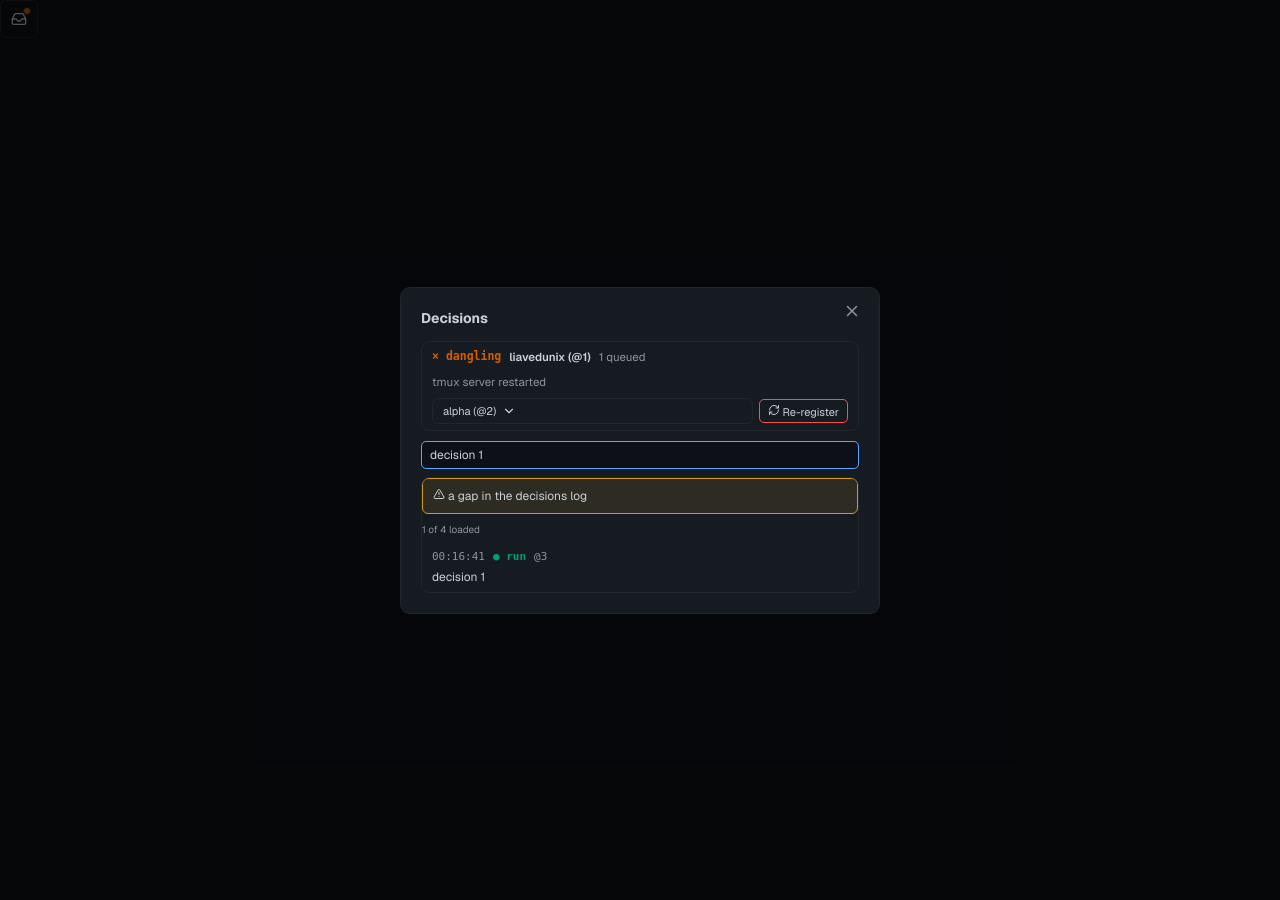
Test: the candidates: live Claude sessions only, sorted by name then window; the first is picked
Press Enter in the dropdown named "Session to re-register as orchestrator", box [432,398,753,424]
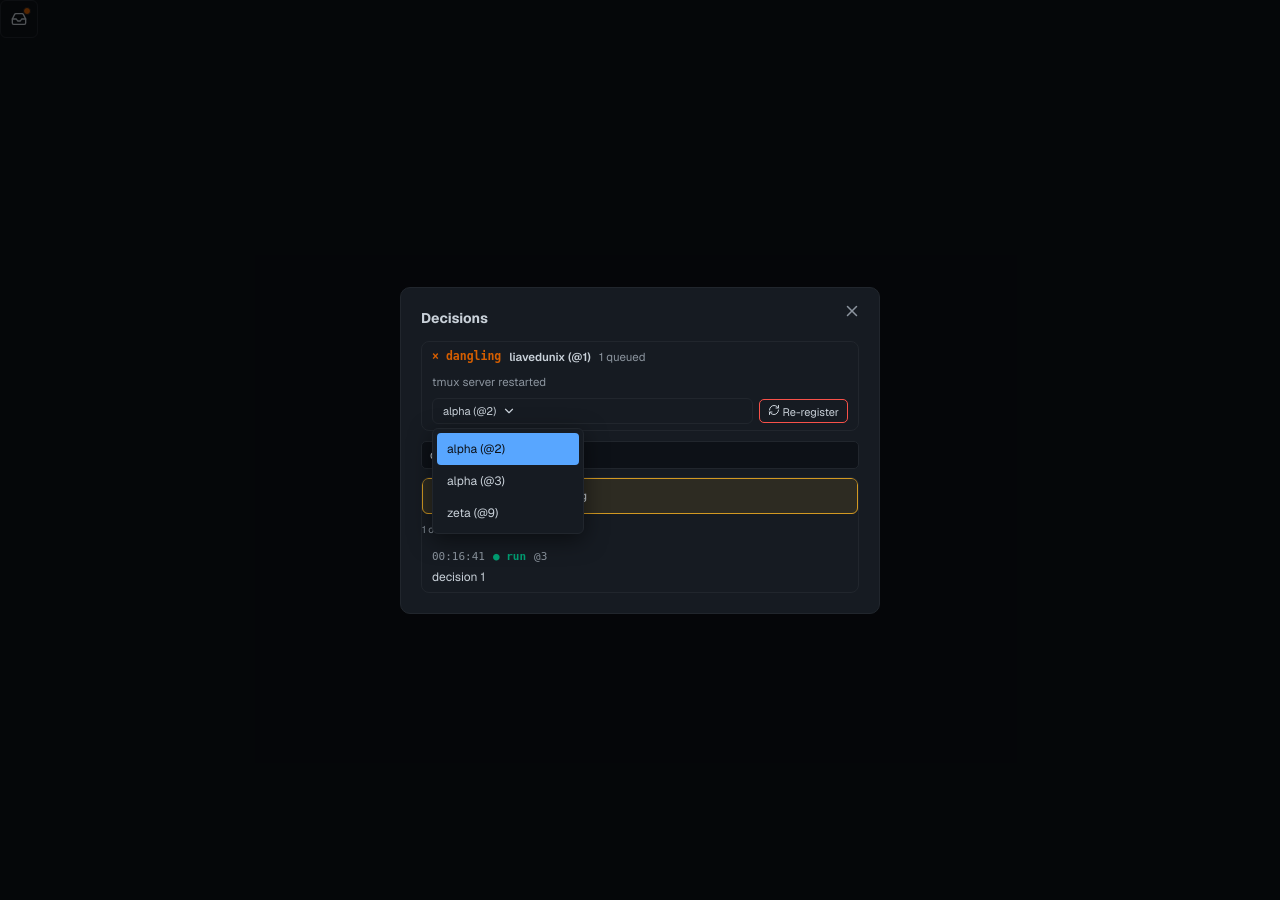
Expected: the options read "alpha (@2)", "alpha (@3)", "zeta (@9)", in this order
Press Escape in the option "alpha (@2)", box [437,433,579,465]
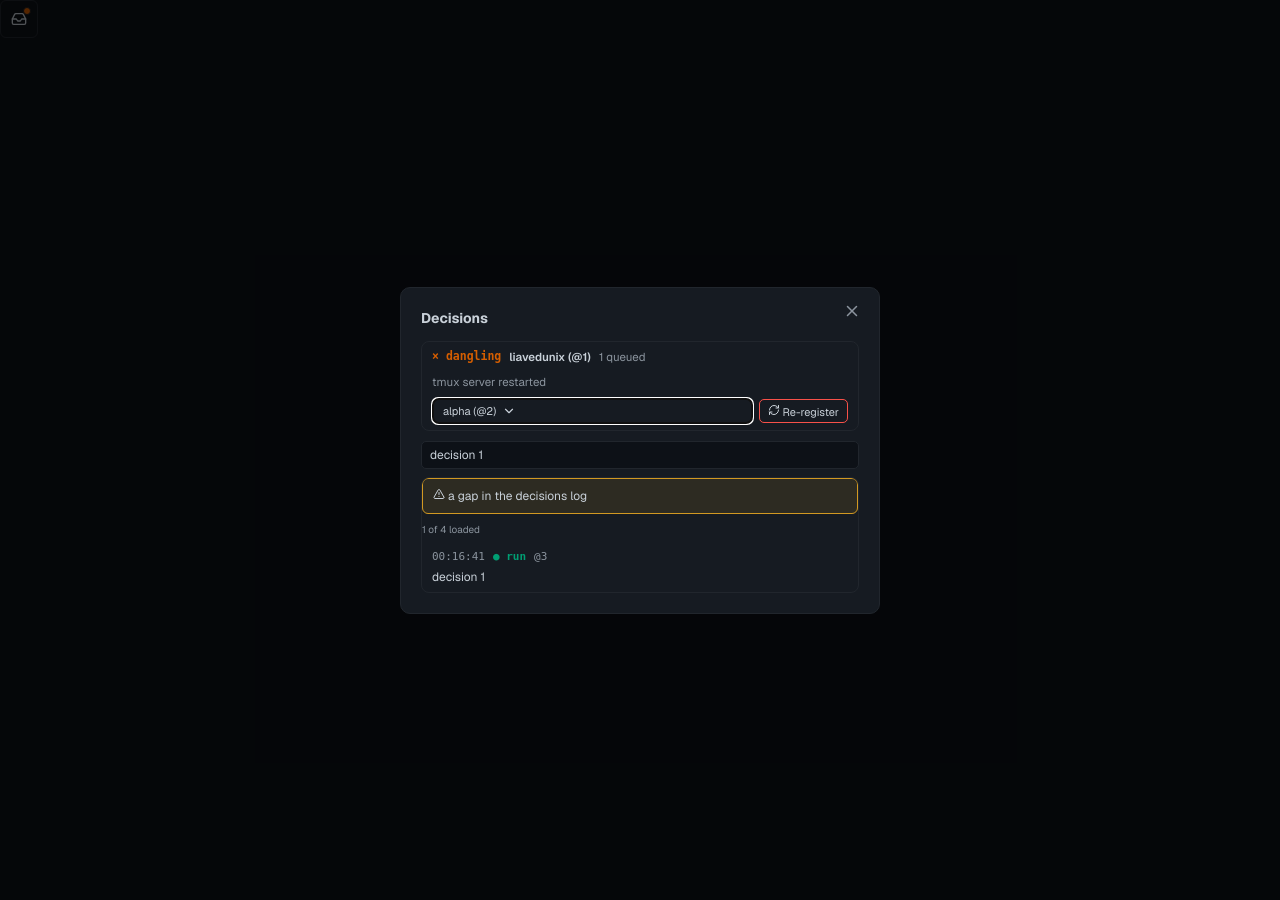
Click the button "Re-register" at (803, 411), box [759,399,848,423]
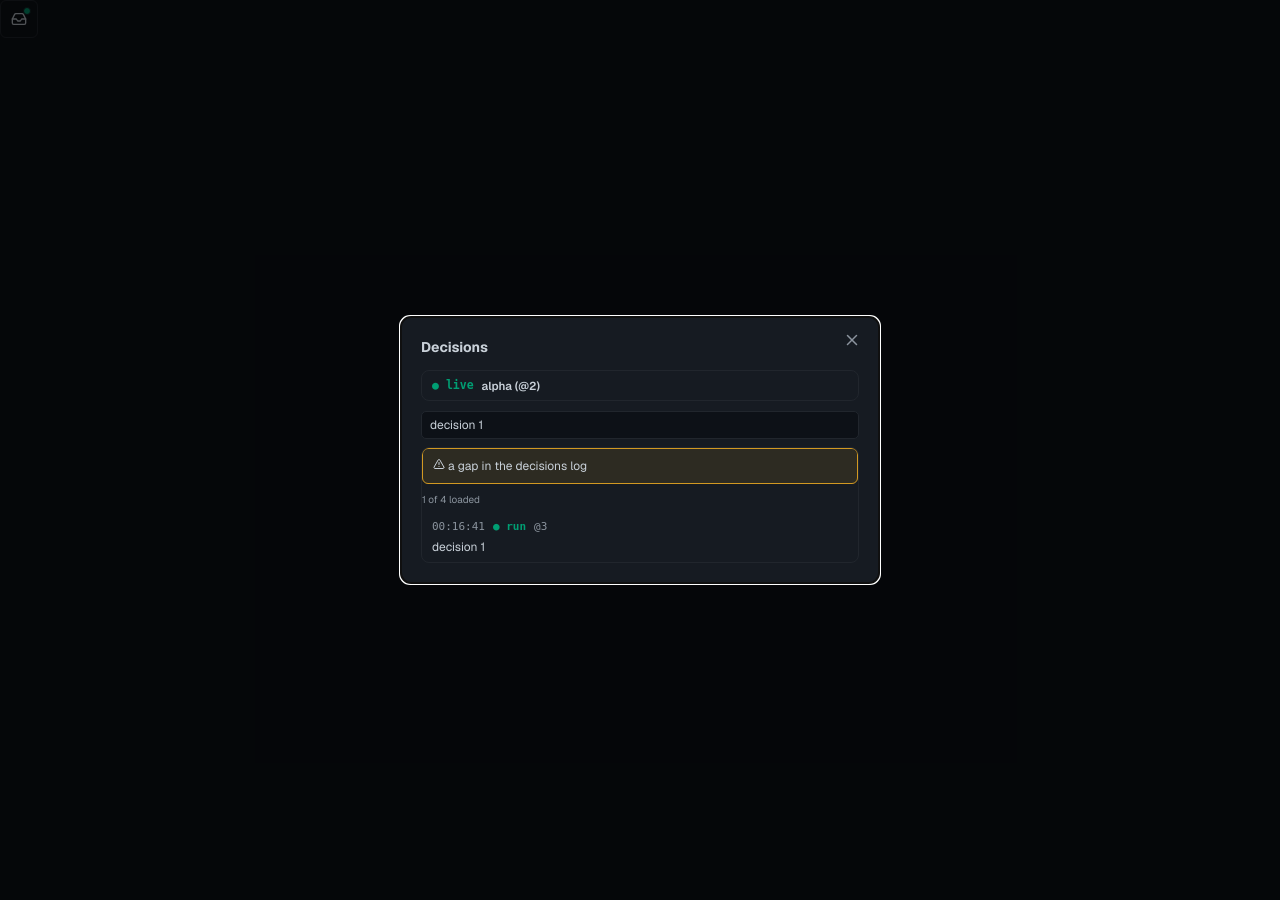
Expected: the button "Re-register" is gone
